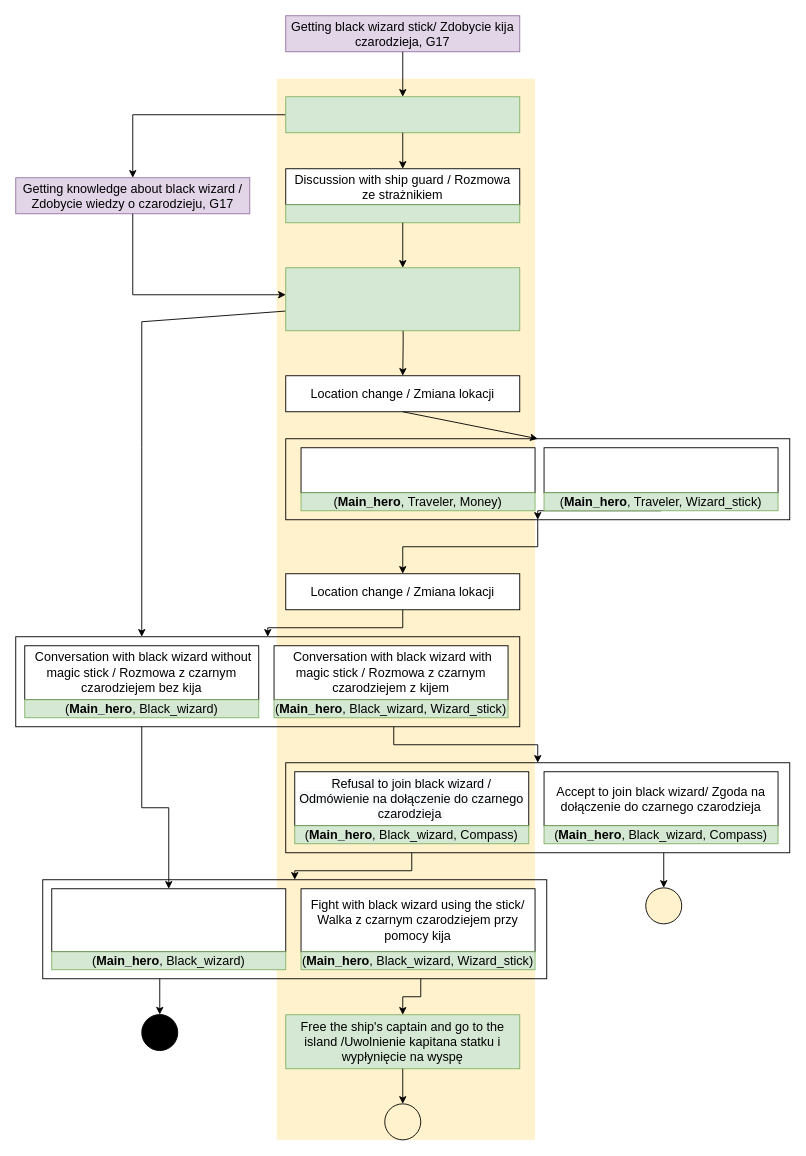
The diagram is 806 pixels wide and 1156 high, and some of its shapes have lost their labels. Here are the shapes that lost their labels. From the top down, the centre of each, then its label:
At [402,114]: "Going to port / Pójscie do portu".
At [402,213]: "( Main_hero , Ship_guard )".
At [402,299]: "Black Wizard takes over ship / Czarny czarodziej przejmuje statek".
At [417,470]: "Buying compass / Zakup kompasu za pieniądze".
At [660,470]: "Replacing compass for a black wizard stick/ Wymiana kompasu za kij czarodzieja".
At [168,920]: "Fight with black wizard without stick/ Walka z czarnym czarodziejem bez kija".
